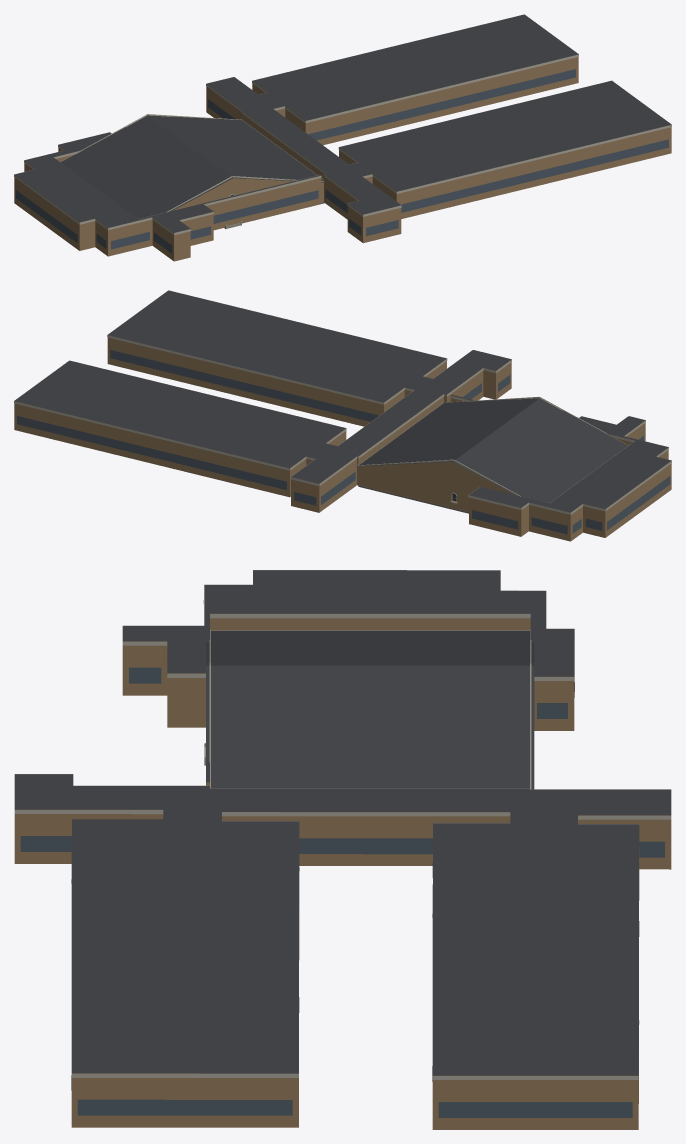
Rendered from first-christian-church.glb.
3 views of the same model, one above another, from view 1: azimuth 30°, elevation 25°; view 2: azimuth 150°, elevation 25°; view 3: azimuth 270°, elevation 25° (orthographic). The views are drawn at different scales.
Parts seen in each view (by area): view 1: first_christian_church; view 2: first_christian_church; view 3: first_christian_church.
Boxes of the visible parts, x1=… form: first_christian_church: x1=14, y1=14, x2=671, y2=261; first_christian_church: x1=14, y1=290, x2=671, y2=541; first_christian_church: x1=14, y1=570, x2=671, y2=1129.
Bounding box in the file's own units: 116 × 10.16 × 63.8.
